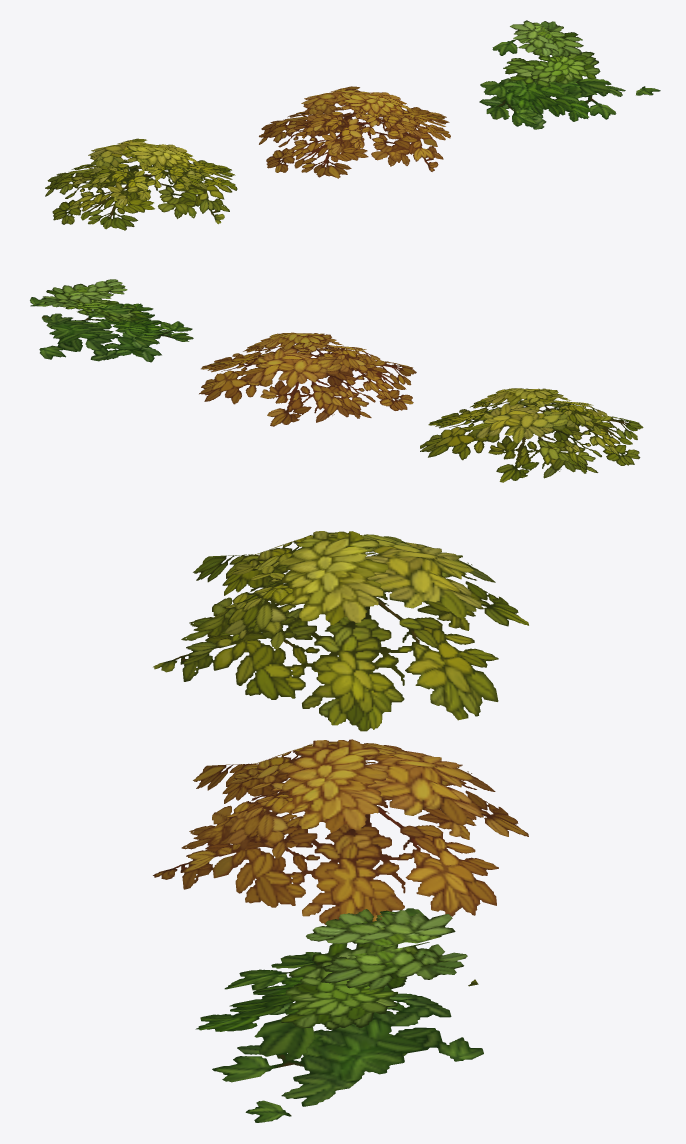
The model's file is 2_Plant_XiaoCaoDui_01.FBX.
3 views of the same model, one above another, from view 1: azimuth 30°, elevation 25°; view 2: azimuth 150°, elevation 25°; view 3: azimuth 270°, elevation 25° (orthographic). The views are drawn at different scales.
Parts seen in each view (by area): view 1: 2_Plant_XiaoCaoDui_02, 2_Plant_XiaoCaoDui_01, 2_Plant_XiaoCaoDui_03; view 2: 2_Plant_XiaoCaoDui_01, 2_Plant_XiaoCaoDui_02, 2_Plant_XiaoCaoDui_03; view 3: 2_Plant_XiaoCaoDui_01, 2_Plant_XiaoCaoDui_02, 2_Plant_XiaoCaoDui_03.
Part boxes in pixels (x1=…): 2_Plant_XiaoCaoDui_02: x1=259, y1=86, x2=450, y2=178; 2_Plant_XiaoCaoDui_01: x1=45, y1=138, x2=237, y2=230; 2_Plant_XiaoCaoDui_03: x1=479, y1=20, x2=660, y2=129; 2_Plant_XiaoCaoDui_01: x1=420, y1=388, x2=643, y2=482; 2_Plant_XiaoCaoDui_02: x1=199, y1=332, x2=416, y2=426; 2_Plant_XiaoCaoDui_03: x1=30, y1=279, x2=193, y2=362; 2_Plant_XiaoCaoDui_01: x1=153, y1=531, x2=528, y2=731; 2_Plant_XiaoCaoDui_02: x1=153, y1=739, x2=528, y2=924; 2_Plant_XiaoCaoDui_03: x1=195, y1=908, x2=483, y2=1122.
Size of the model in its own units: 1264 by 123 by 351.
